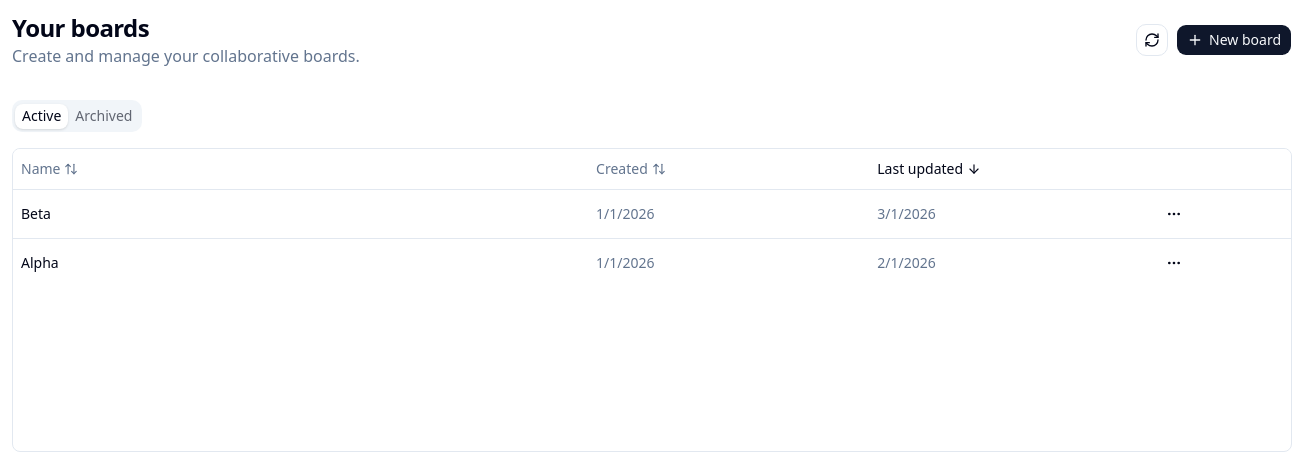
Scenario: DashboardPage integration › duplicates a board through the actions menu
The width and height of the screenshot is (1304, 469).
Expected: the button "Alpha" is shown, [21,252,580,272]
Click the button named "Board actions" in the row of "2/1/2026": (1174, 262) [1158,246,1190,278]
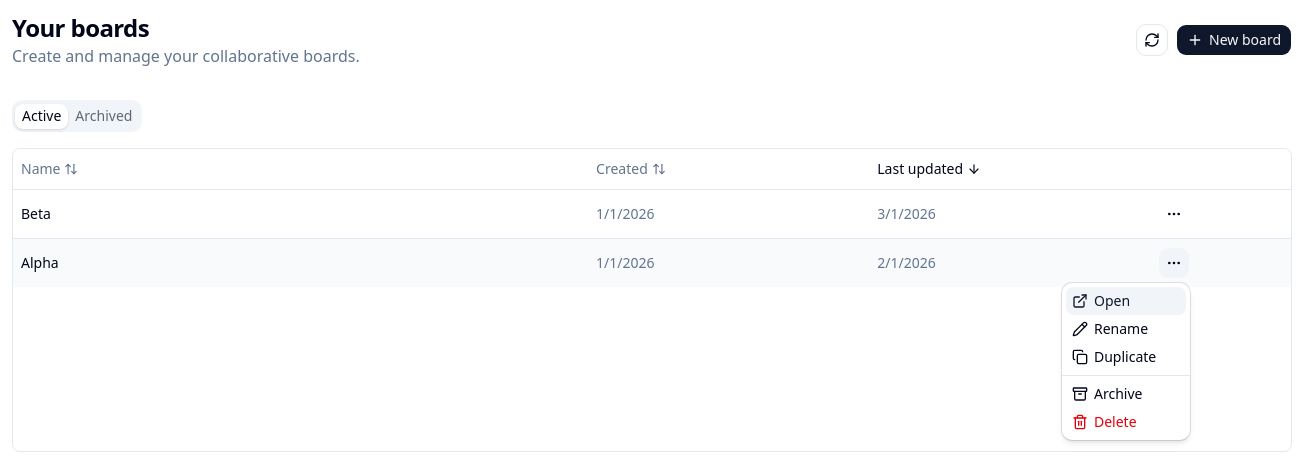
Expected: the menu is shown, [1062,283,1190,440]
Click the menu item "Duplicate": (1114, 356) [1072,347,1156,366]
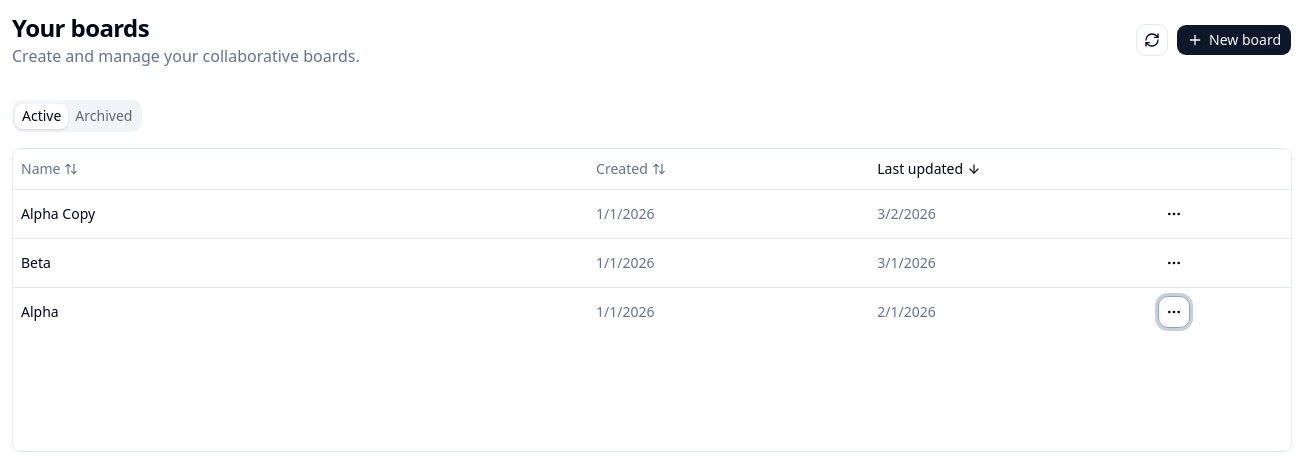
Expected: the button "Alpha Copy" is shown, [21,204,580,224]
